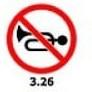road_sign: (7, 3, 76, 73)
